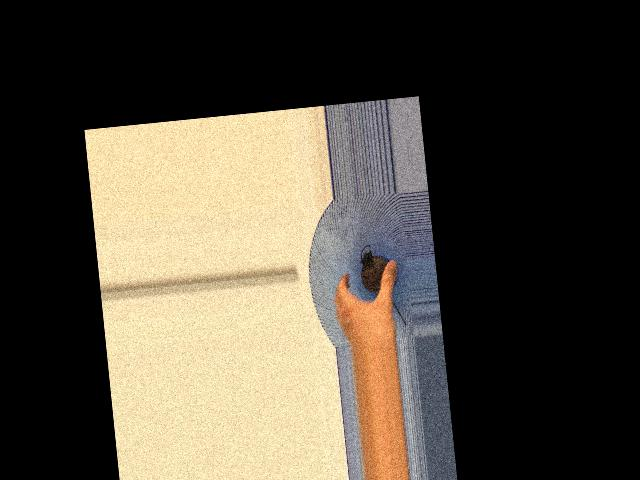beet: (358, 241, 406, 328)
